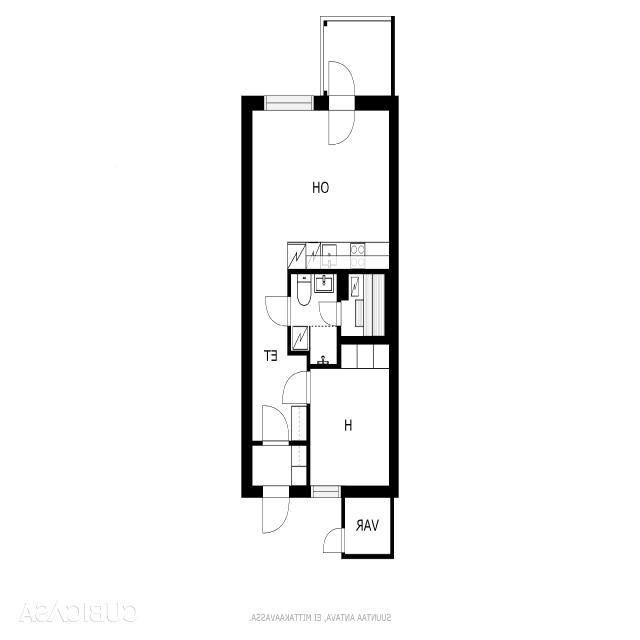door: (325, 54, 359, 150), (261, 488, 292, 538), (259, 402, 291, 444), (279, 369, 311, 407), (263, 293, 292, 329), (319, 524, 346, 557), (318, 297, 342, 329)
window: (260, 91, 320, 115)
zone: (250, 102, 396, 268), (308, 340, 392, 493), (289, 271, 339, 365), (340, 272, 390, 340), (345, 492, 393, 556), (250, 443, 308, 489)
